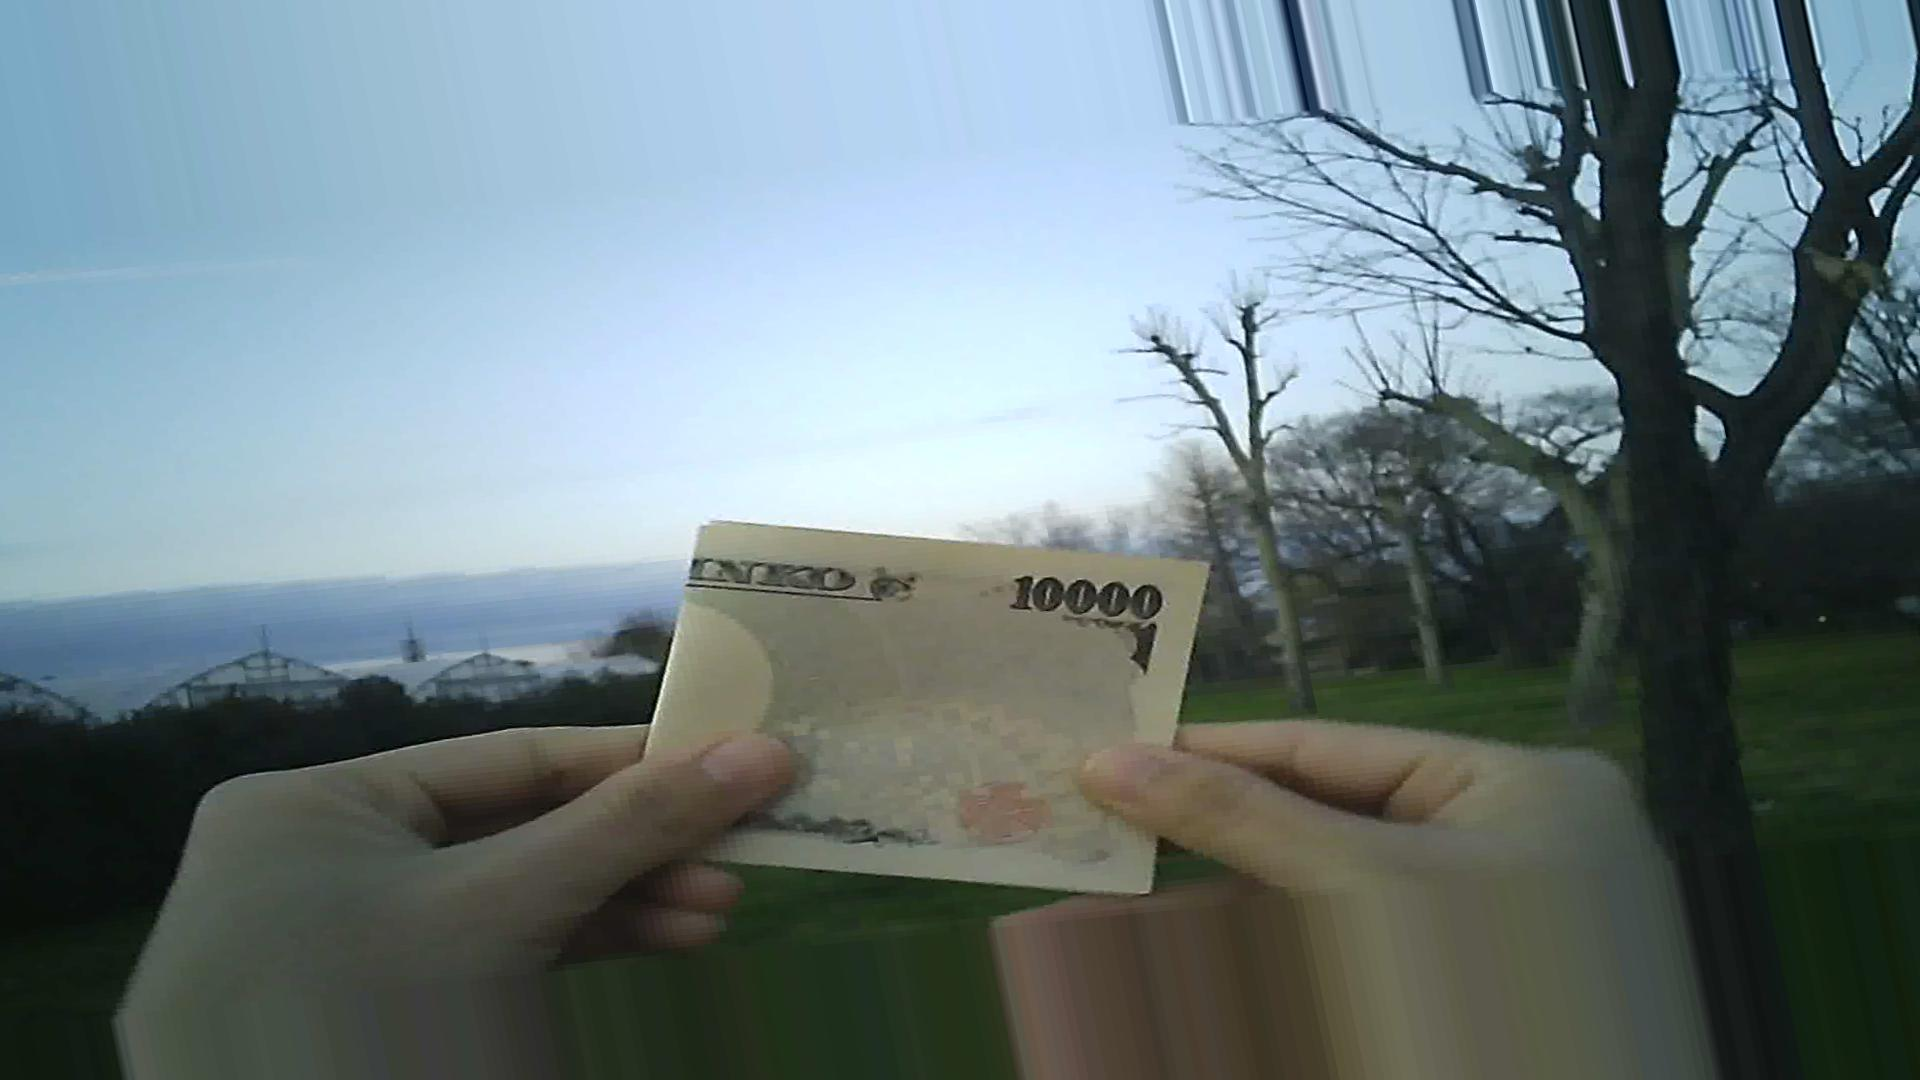10,000 Yen: (622, 517, 1226, 924)
